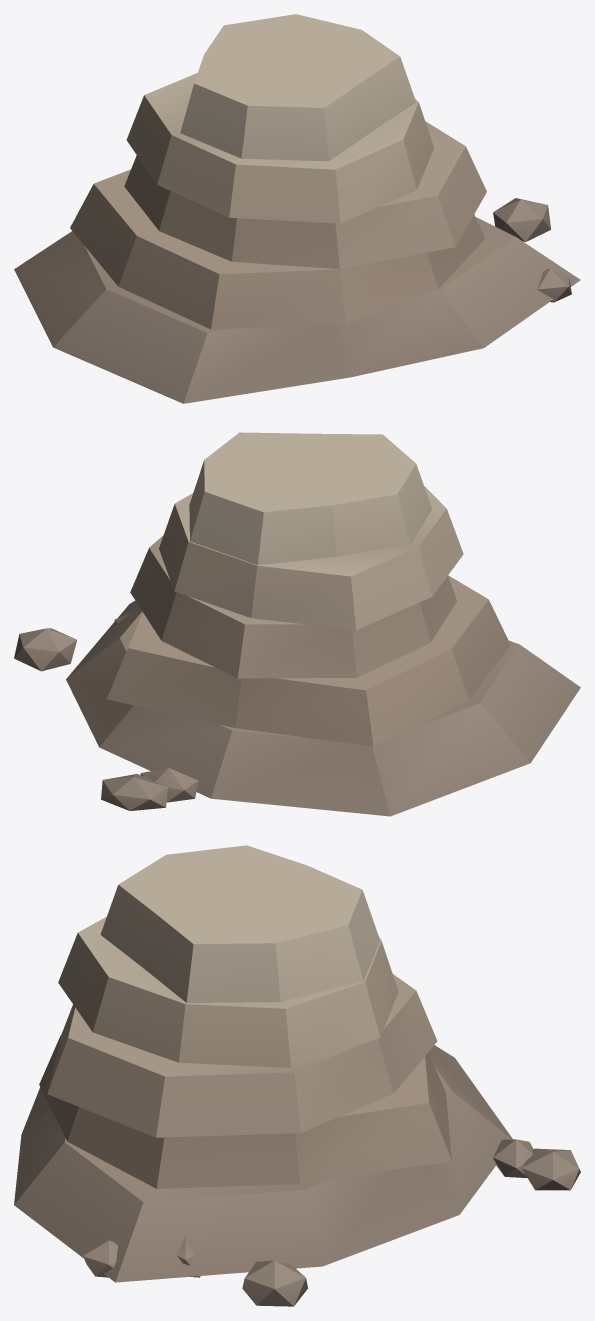
File: mesa_1.glb
3 views of the same model, one above another, from view 1: azimuth 30°, elevation 25°; view 2: azimuth 150°, elevation 25°; view 3: azimuth 270°, elevation 25° (orthographic). The views are drawn at different scales.
Parts seen in each view (by area): view 1: mesa_1; view 2: mesa_1; view 3: mesa_1.
Part boxes in pixels (x1=…): mesa_1: x1=14, y1=14, x2=580, y2=403; mesa_1: x1=14, y1=432, x2=580, y2=816; mesa_1: x1=14, y1=845, x2=580, y2=1306.
Size of the model in its own units: 72.31 by 32.6 by 63.39.
